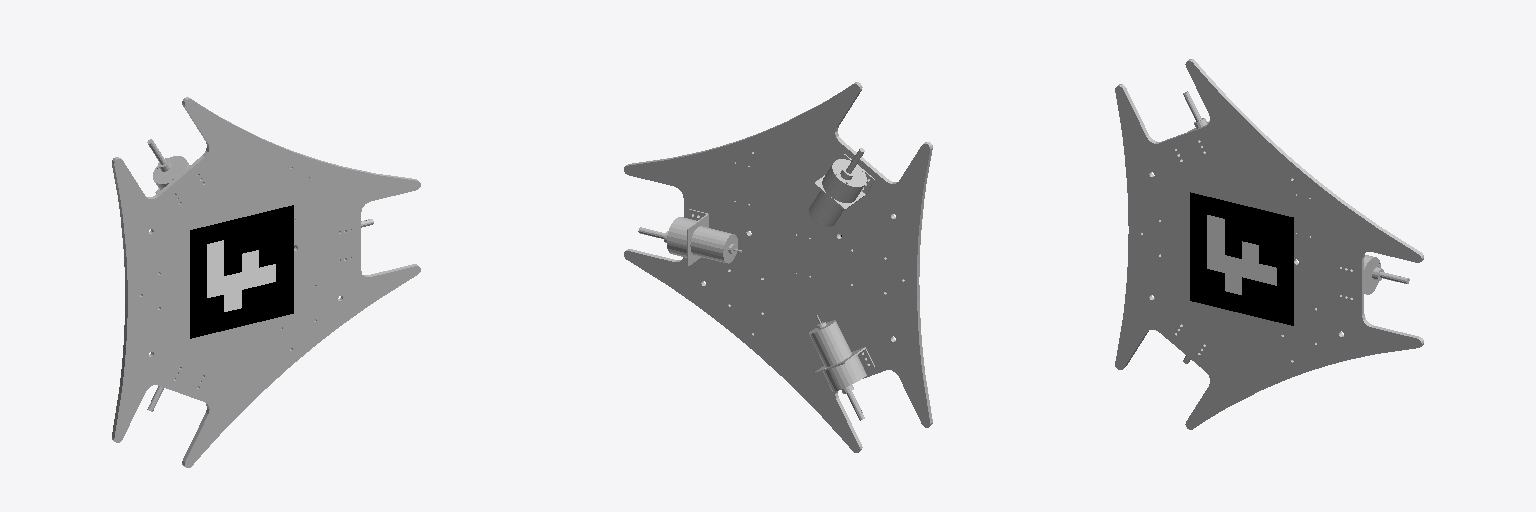
3 views of the same model, side by side, from view 1: azimuth 30°, elevation 25°; view 2: azimuth 150°, elevation 25°; view 3: azimuth 330°, elevation 25° (orthographic).
Parts seen in each view (by area): view 1: Base_Link, Plane; view 2: Base_Link; view 3: Base_Link, Plane.
Part boxes in pixels (bbox=[...]): Base_Link: bbox=[112, 97, 420, 467]; Plane: bbox=[190, 205, 293, 338]; Base_Link: bbox=[624, 82, 932, 452]; Base_Link: bbox=[1115, 59, 1423, 429]; Plane: bbox=[1190, 192, 1293, 325].
Bounding box in the file's own units: 0.3398 × 0.3908 × 0.0454.
Materials: 2 (1 with a texture image).